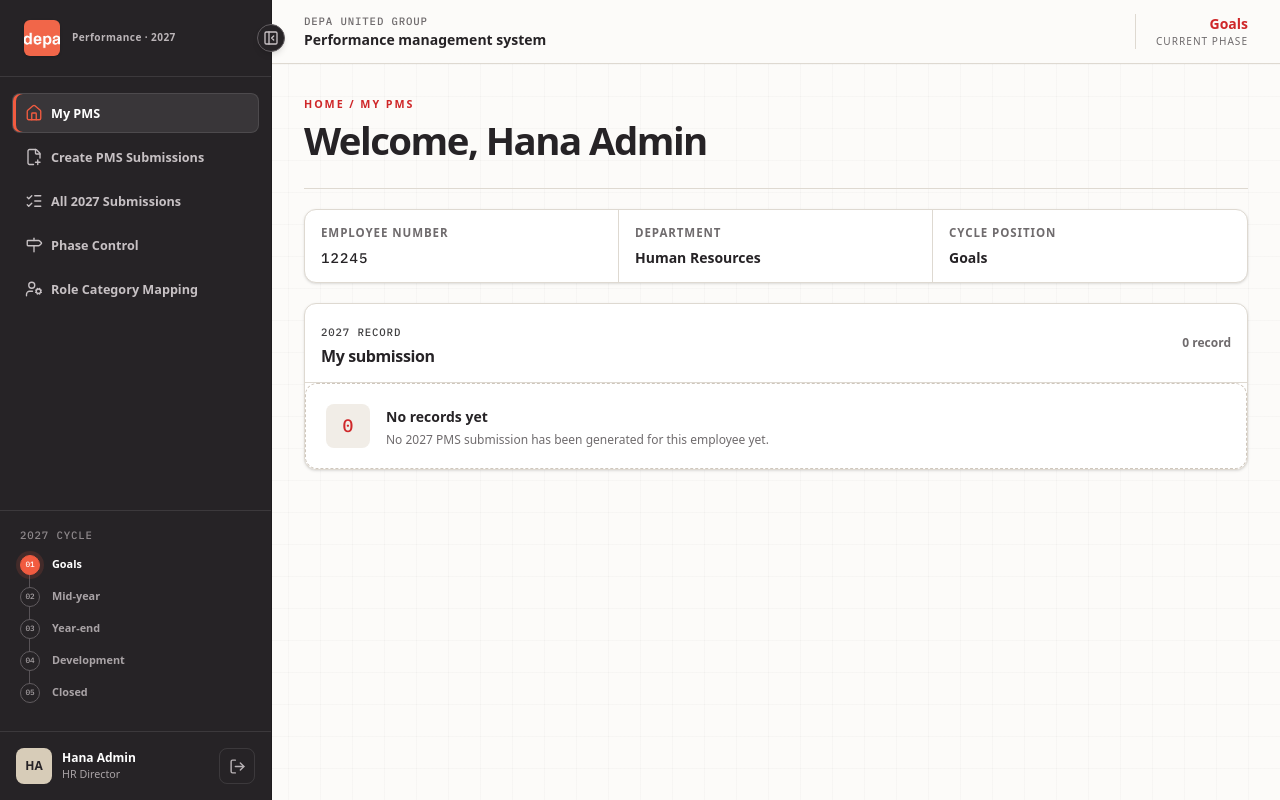
Test case: App › asks for confirmation before opening the next phase
Click the button "Phase Control" at {"x": 136, "y": 245}, box [12,225,259,265]
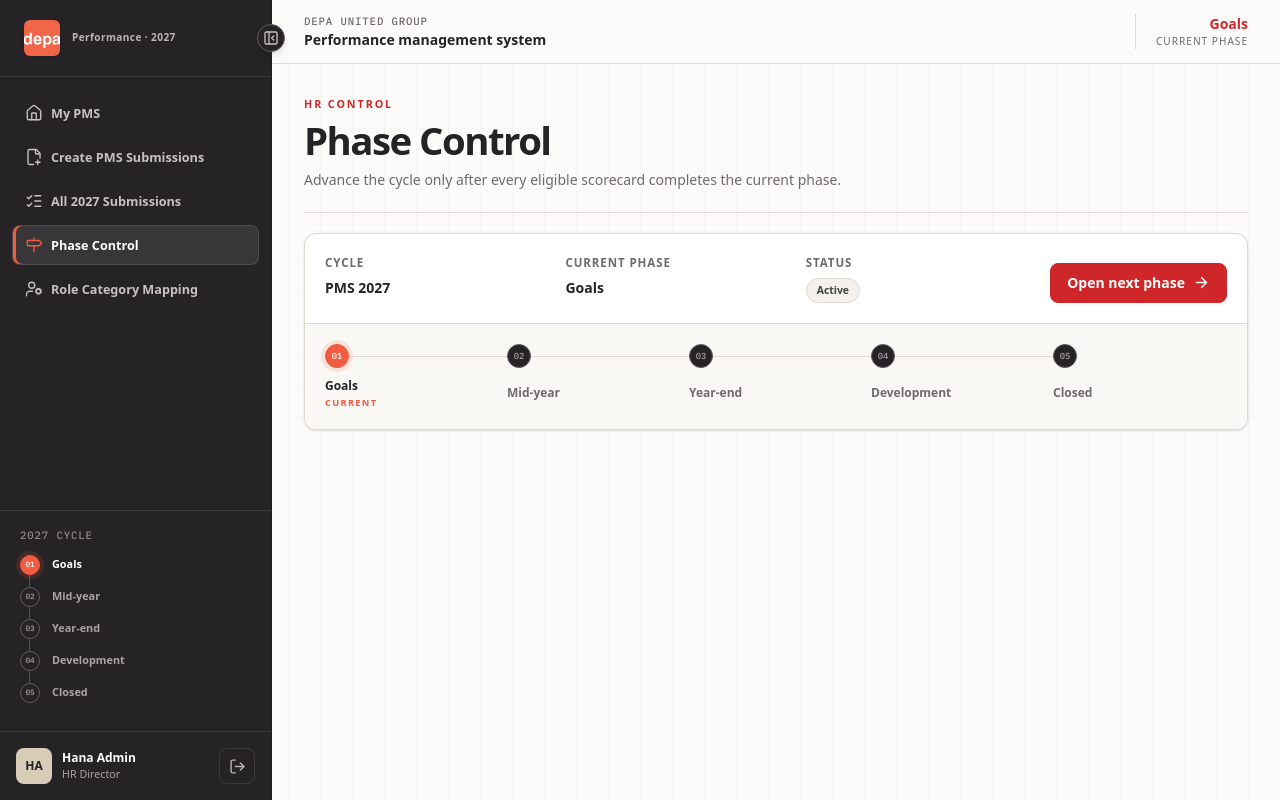
Click the button "Open next phase" at {"x": 1139, "y": 282}, box [1050,262,1227,302]
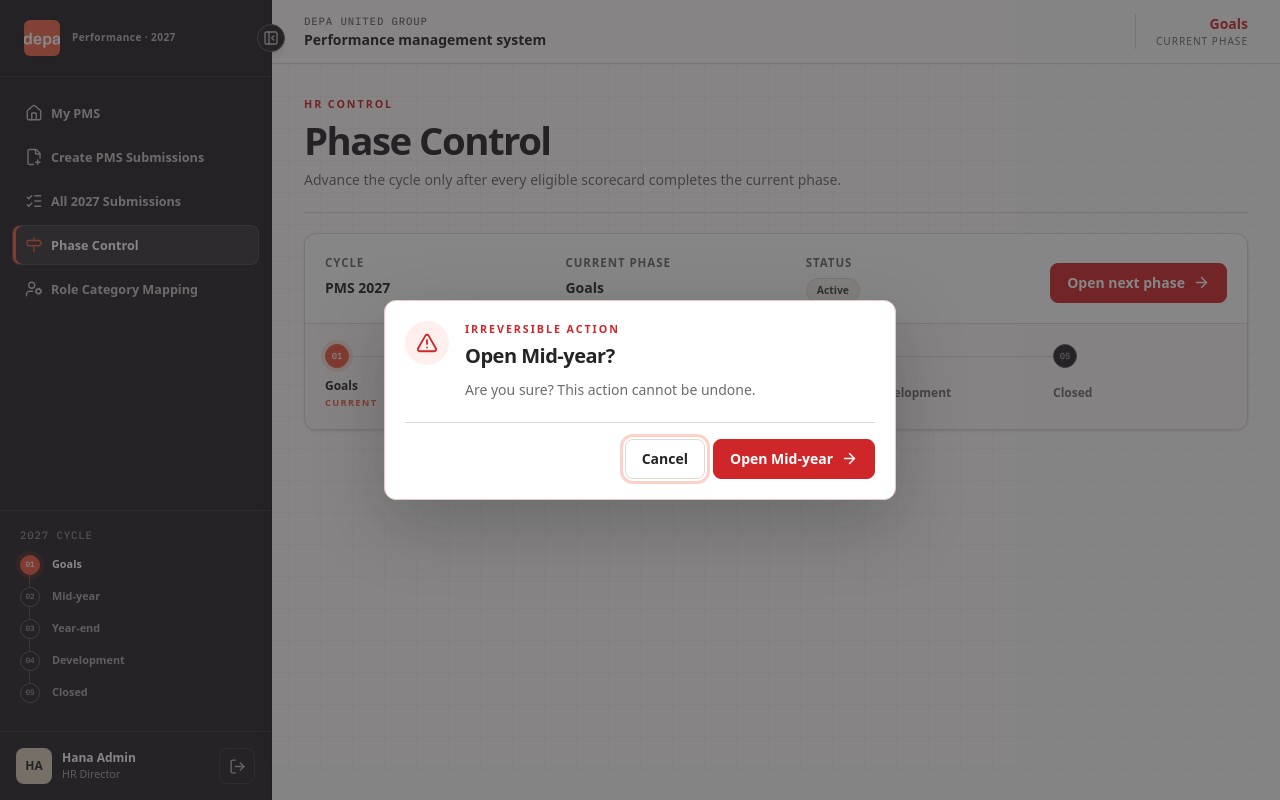
Now the dialog "Open Mid-year?" shows "Are you sure? This action cannot be undone.", box [465,380,756,398]
Click the button "Cancel" at {"x": 665, "y": 458}, box [625,438,705,478]
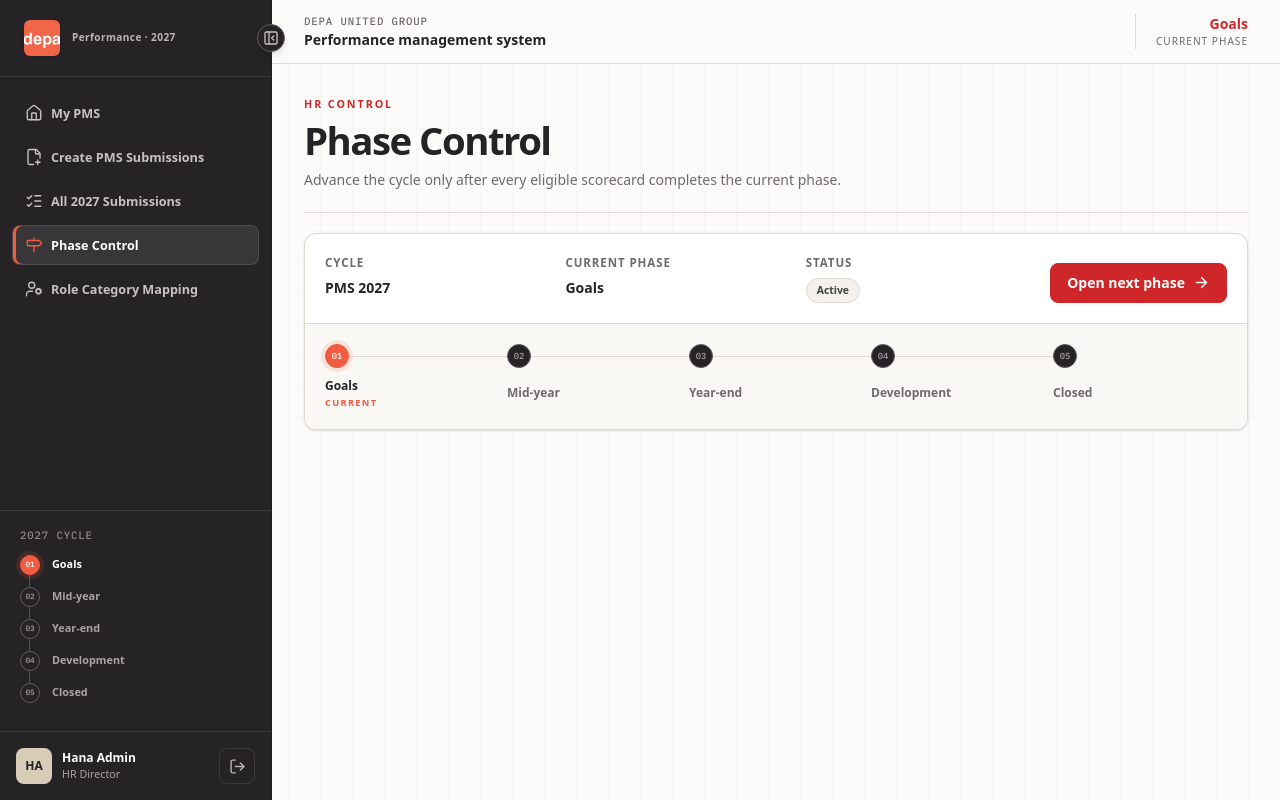
Click the button "Open next phase" at {"x": 1139, "y": 282}, box [1050,262,1227,302]
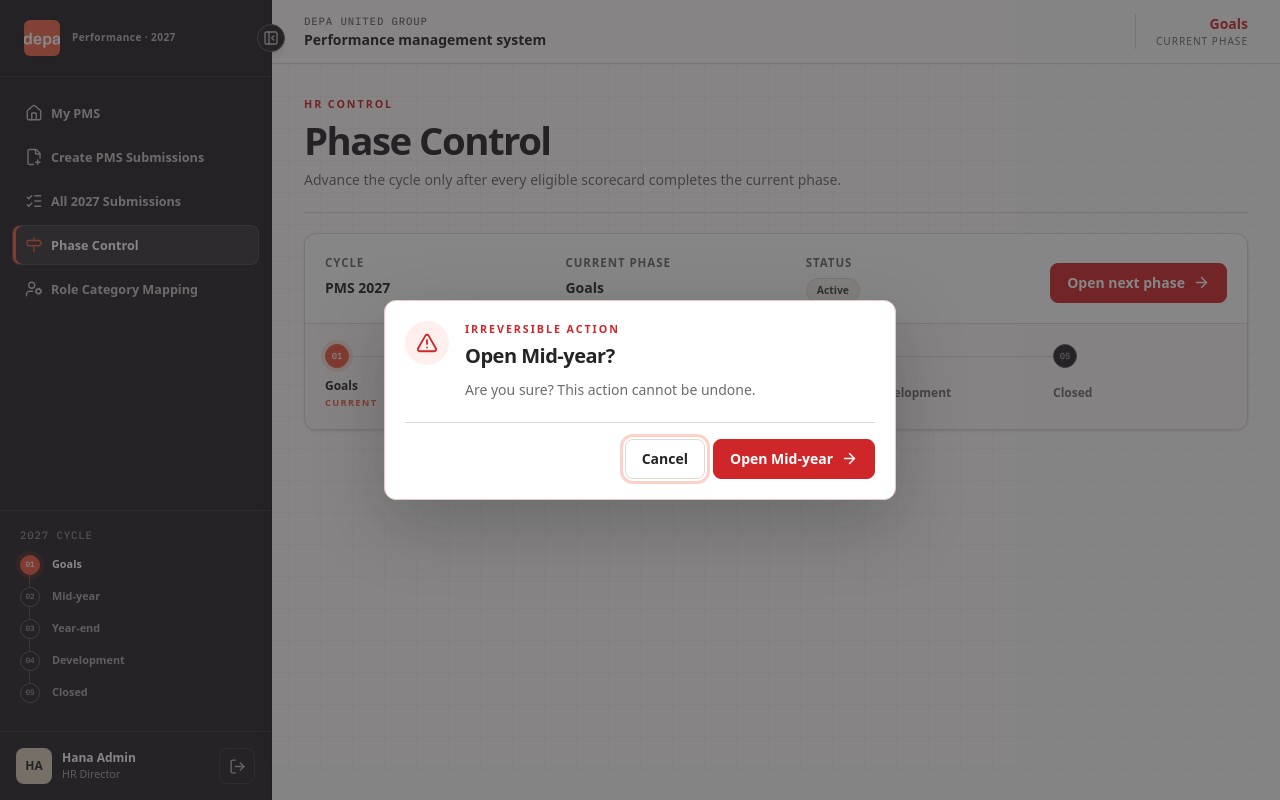
Click the button "Open Mid-year" at {"x": 794, "y": 458}, box [713,438,875,478]
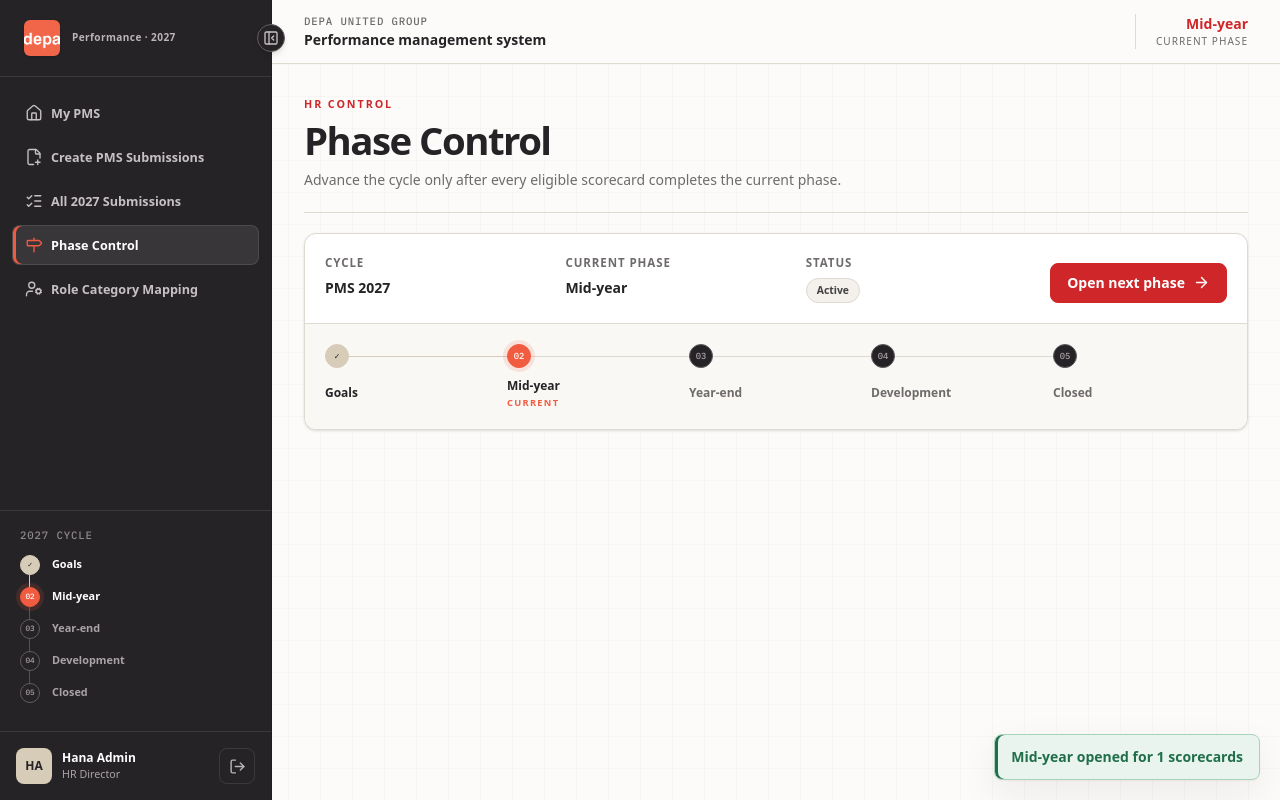
Now the text "Mid-year opened for 1 scorecards" is shown, box [994,734,1260,780]
